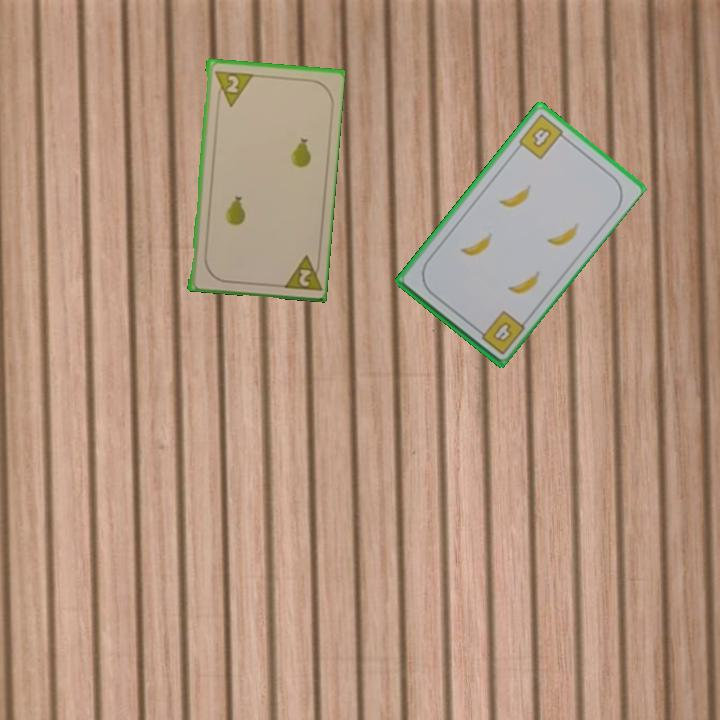2p: (278, 251, 323, 293), (211, 67, 254, 109)
4b: (515, 110, 570, 162), (472, 307, 527, 357)
